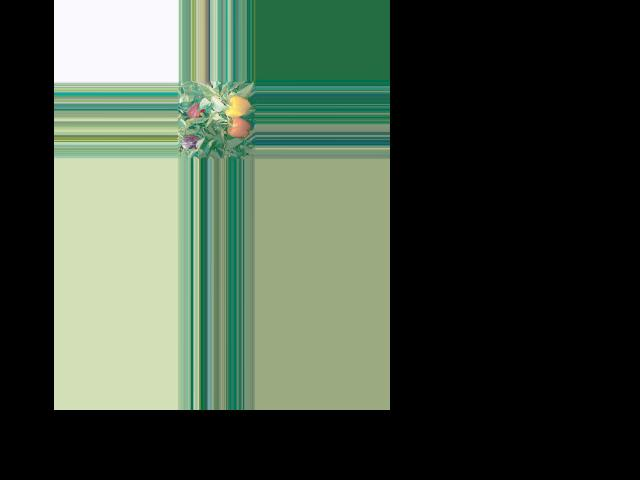bell_pepper: (224, 95, 249, 122)
